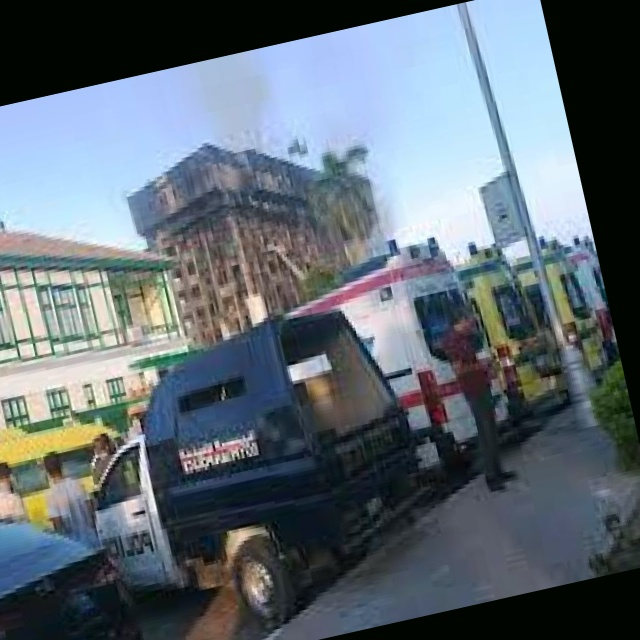Ambulance: (294, 210, 524, 482), (435, 223, 571, 418), (531, 225, 605, 388)
person: (431, 302, 522, 496), (35, 443, 101, 556), (83, 428, 126, 491), (0, 456, 32, 529)
police-car: (35, 299, 428, 640)
